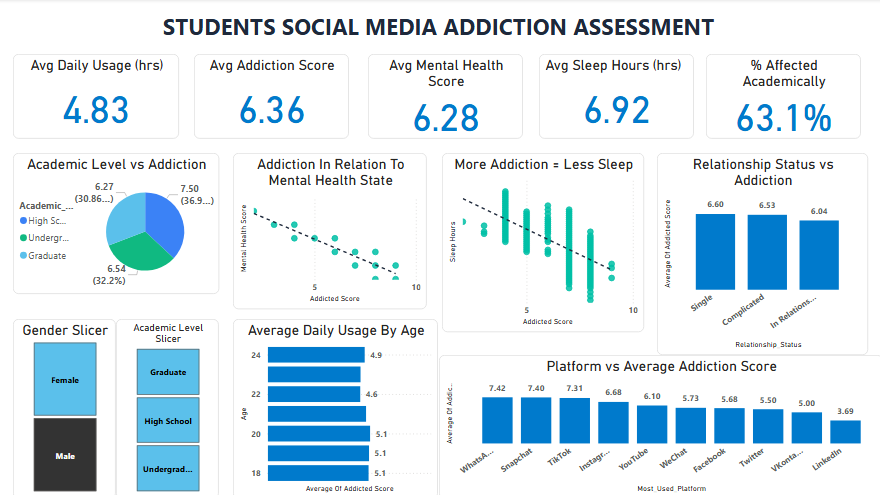

The dashboard page shown, as its layout file describes it:
{"tool":"powerbi","page":{"name":"Page 1","canvas":[1280,720],"ordinal":0},"visuals":[{"type":"textbox","box":[0,11.5,1280.2,67.7],"z":0},{"type":"card","title":"Avg Daily Usage (hrs)","fields":{"Values":["Avg(Students_Social_Media_Addiction.Avg_Daily_Usage_Hours)"]},"box":[27.4,79.2,239,122.4],"z":1000},{"type":"card","title":"Avg Addiction Score","fields":{"Values":["Avg(Students_Social_Media_Addiction.Addicted_Score)"]},"box":[288,79.2,223.2,122.4],"z":2000},{"type":"card","title":"Avg Mental Health Score","fields":{"Values":["Avg(Students_Social_Media_Addiction.Mental_Health_Score)"]},"box":[538.6,79.2,223.2,122.4],"z":3000},{"type":"card","title":"Avg Sleep Hours (hrs)","fields":{"Values":["Avg(Students_Social_Media_Addiction.Sleep_Hours_Per_Night)"]},"box":[784.8,79.2,223.2,122.4],"z":4000},{"type":"card","title":"% Affected Academically","fields":{"Values":["Students_Social_Media_Addiction.% Affected Academically"]},"box":[1025.3,79.2,223.2,122.4],"z":5000},{"type":"pieChart","title":"Academic Level vs Addiction","fields":{"Category":["Students_Social_Media_Addiction.Academic_Level"],"Y":["Avg(Students_Social_Media_Addiction.Addicted_Score)"]},"box":[27.4,221.8,296.6,203],"z":6000},{"type":"columnChart","title":"Academic Level vs Addiction","fields":{"Category":["Students_Social_Media_Addiction.Relationship_Status"],"Y":["Avg(Students_Social_Media_Addiction.Addicted_Score)"]},"box":[954.7,221.8,303.8,290.9],"z":7000},{"type":"scatterChart","title":"Addiction In Relation To Mental Health State","fields":{"X":["Students_Social_Media_Addiction.Addicted_Score"],"Y":["Students_Social_Media_Addiction.Mental_Health_Score"]},"box":[344.2,221.8,279.4,224.6],"z":8000},{"type":"scatterChart","title":"More Addiction = Less Sleep","fields":{"X":["Students_Social_Media_Addiction.Addicted_Score"],"Y":["Students_Social_Media_Addiction.Sleep_Hours_Per_Night"]},"box":[645.1,221.8,290.9,257.8],"z":9000},{"type":"clusteredBarChart","title":"Average Daily Usage By Age","fields":{"Category":["Students_Social_Media_Addiction.Age"],"Y":["Avg(Students_Social_Media_Addiction.Avg_Daily_Usage_Hours)"]},"box":[344.2,460.8,295.2,259.2],"z":10000},{"type":"slicer","title":"Gender Slicer","fields":{"Values":["Students_Social_Media_Addiction.Gender"]},"box":[27.4,460.8,148.3,259.2],"z":11000},{"type":"slicer","title":"Academic Level Slicer","fields":{"Values":["Students_Social_Media_Addiction.Academic_Level"]},"box":[175.7,460.8,148.3,259.2],"z":12000},{"type":"columnChart","title":"Platform vs Average Addiction Score","fields":{"Category":["Students_Social_Media_Addiction.Most_Used_Platform"],"Y":["Avg(Students_Social_Media_Addiction.Addicted_Score)"]},"box":[640.8,512.6,639.4,207.4],"z":13000}]}

Visuals, with their boxes in screenshot pixels (x1, y1, x2, y2), scaled from the page's 1280x720 canvas onto the 880x495 screenshot:
textbox: detection(0, 8, 879, 54)
"Avg Daily Usage (hrs)" card: detection(19, 54, 183, 139)
"Avg Addiction Score" card: detection(198, 54, 351, 139)
"Avg Mental Health Score" card: detection(370, 54, 524, 139)
"Avg Sleep Hours (hrs)" card: detection(540, 54, 693, 139)
"% Affected Academically" card: detection(705, 54, 858, 139)
"Academic Level vs Addiction" pieChart: detection(19, 152, 223, 292)
"Academic Level vs Addiction" columnChart: detection(656, 152, 865, 352)
"Addiction In Relation To Mental Health State" scatterChart: detection(237, 152, 429, 307)
"More Addiction = Less Sleep" scatterChart: detection(444, 152, 644, 330)
"Average Daily Usage By Age" clusteredBarChart: detection(237, 317, 440, 494)
"Gender Slicer" slicer: detection(19, 317, 121, 494)
"Academic Level Slicer" slicer: detection(121, 317, 223, 494)
"Platform vs Average Addiction Score" columnChart: detection(441, 352, 879, 494)
